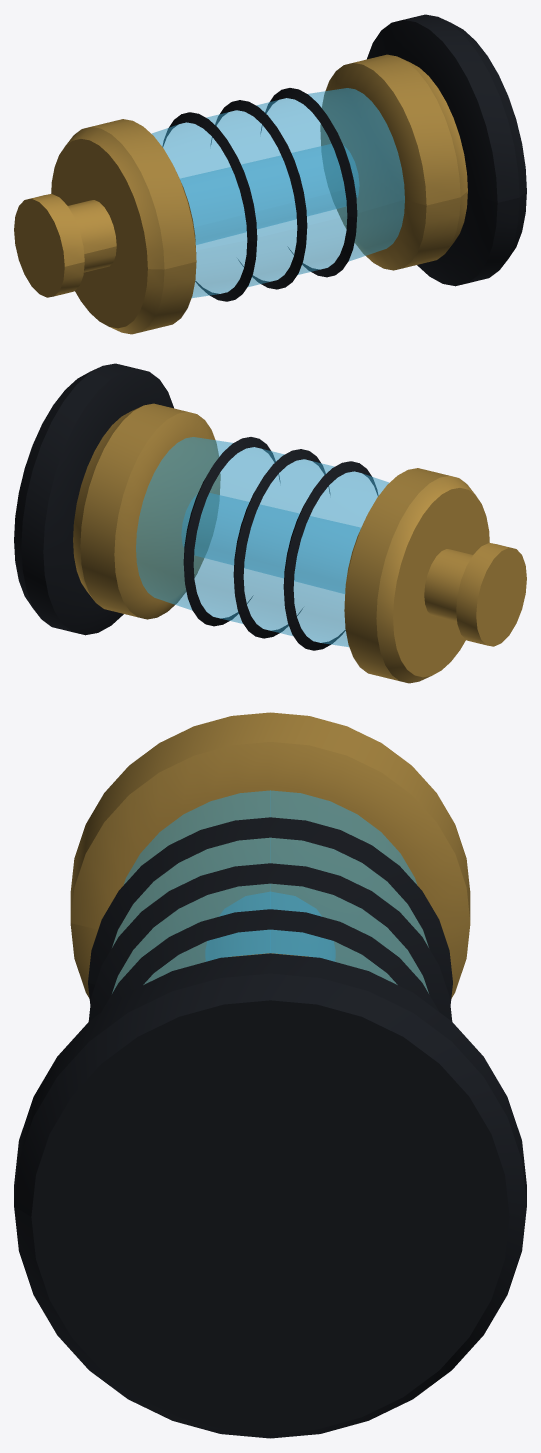
File: meleemod_infusion_cryo.glb
3 renders of one model, top to bottom at view 1: azimuth 30°, elevation 25°; view 2: azimuth 150°, elevation 25°; view 3: azimuth 270°, elevation 25°, orthographic. The views are drawn at different scales.
Visible parts, largest first — view 1: meleemod_infusion_cryo_glass, meleemod_infusion_cryo_ring_a, meleemod_infusion_cryo_ring_b, meleemod_infusion_cryo_saddle, meleemod_infusion_cryo_core, meleemod_infusion_cryo_valve, meleemod_infusion_cryo_rib2, meleemod_infusion_cryo_rib1, meleemod_infusion_cryo_rib0; view 2: meleemod_infusion_cryo_glass, meleemod_infusion_cryo_ring_a, meleemod_infusion_cryo_ring_b, meleemod_infusion_cryo_saddle, meleemod_infusion_cryo_core, meleemod_infusion_cryo_valve, meleemod_infusion_cryo_rib2, meleemod_infusion_cryo_rib1, meleemod_infusion_cryo_rib0; view 3: meleemod_infusion_cryo_saddle, meleemod_infusion_cryo_ring_b, meleemod_infusion_cryo_glass, meleemod_infusion_cryo_rib2, meleemod_infusion_cryo_rib1, meleemod_infusion_cryo_rib0, meleemod_infusion_cryo_core.
Part boxes in pixels (x1,y1,x2,y2): meleemod_infusion_cryo_glass: (152, 88, 404, 297); meleemod_infusion_cryo_ring_a: (320, 54, 467, 270); meleemod_infusion_cryo_ring_b: (51, 119, 196, 334); meleemod_infusion_cryo_saddle: (367, 14, 526, 286); meleemod_infusion_cryo_core: (180, 144, 359, 244); meleemod_infusion_cryo_valve: (14, 194, 116, 297); meleemod_infusion_cryo_rib2: (162, 112, 257, 301); meleemod_infusion_cryo_rib1: (210, 100, 307, 289); meleemod_infusion_cryo_rib0: (260, 88, 357, 277); meleemod_infusion_cryo_glass: (136, 437, 388, 646); meleemod_infusion_cryo_ring_a: (73, 403, 220, 619); meleemod_infusion_cryo_ring_b: (344, 468, 489, 683); meleemod_infusion_cryo_saddle: (14, 363, 173, 635); meleemod_infusion_cryo_core: (181, 493, 360, 593); meleemod_infusion_cryo_valve: (424, 543, 526, 646); meleemod_infusion_cryo_rib2: (283, 461, 378, 650); meleemod_infusion_cryo_rib1: (233, 449, 330, 638); meleemod_infusion_cryo_rib0: (183, 437, 280, 626); meleemod_infusion_cryo_saddle: (14, 953, 526, 1438); meleemod_infusion_cryo_ring_b: (70, 712, 470, 998); meleemod_infusion_cryo_glass: (112, 790, 428, 993); meleemod_infusion_cryo_rib2: (88, 817, 452, 1004); meleemod_infusion_cryo_rib1: (88, 863, 452, 1021); meleemod_infusion_cryo_rib0: (101, 909, 439, 1011); meleemod_infusion_cryo_core: (205, 892, 335, 961).
Bounding box in the file's own units: 0.0424 × 0.0236 × 0.0236.
